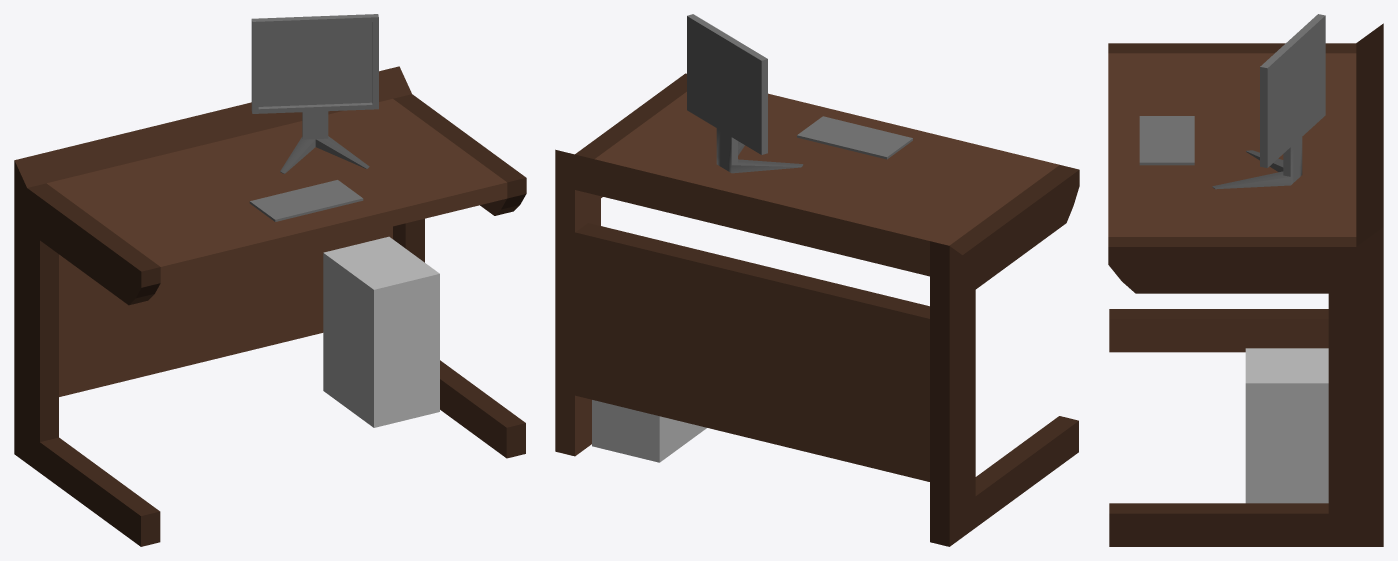
Rendered from bureau1.fbx.
The picture shows the model from 3 angles, left to right: view 1: azimuth 30°, elevation 25°; view 2: azimuth 150°, elevation 25°; view 3: azimuth 270°, elevation 25°; orthographic projection. The views are drawn at different scales.
Parts seen in each view (by area): view 1: Buruea, monitor, beeldscherm, toestenbord; view 2: Buruea, beeldscherm, monitor, toestenbord; view 3: Buruea, monitor, beeldscherm, toestenbord.
Boxes of the visible parts, x1,y1,x2,y2 form: Buruea: (14, 66, 526, 546); monitor: (323, 236, 439, 427); beeldscherm: (251, 14, 378, 173); toestenbord: (249, 180, 363, 221); Buruea: (555, 73, 1079, 546); beeldscherm: (687, 14, 803, 173); monitor: (592, 400, 706, 462); toestenbord: (797, 116, 912, 159); Buruea: (1108, 23, 1383, 546); monitor: (1245, 348, 1328, 503); beeldscherm: (1212, 14, 1325, 189); toestenbord: (1139, 116, 1194, 165).
Size of the model in its own units: 175 by 176 by 100.
